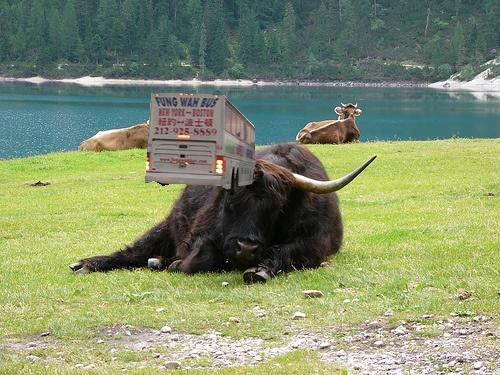tampered: (146, 94, 255, 195)
